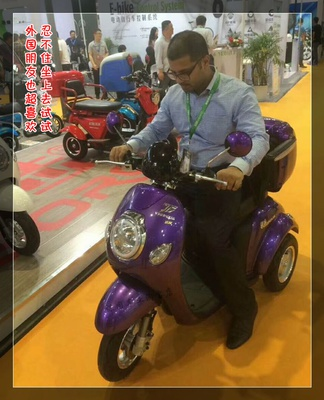non-vehicle: (98, 109, 296, 377), (58, 72, 160, 161), (1, 102, 40, 258)
